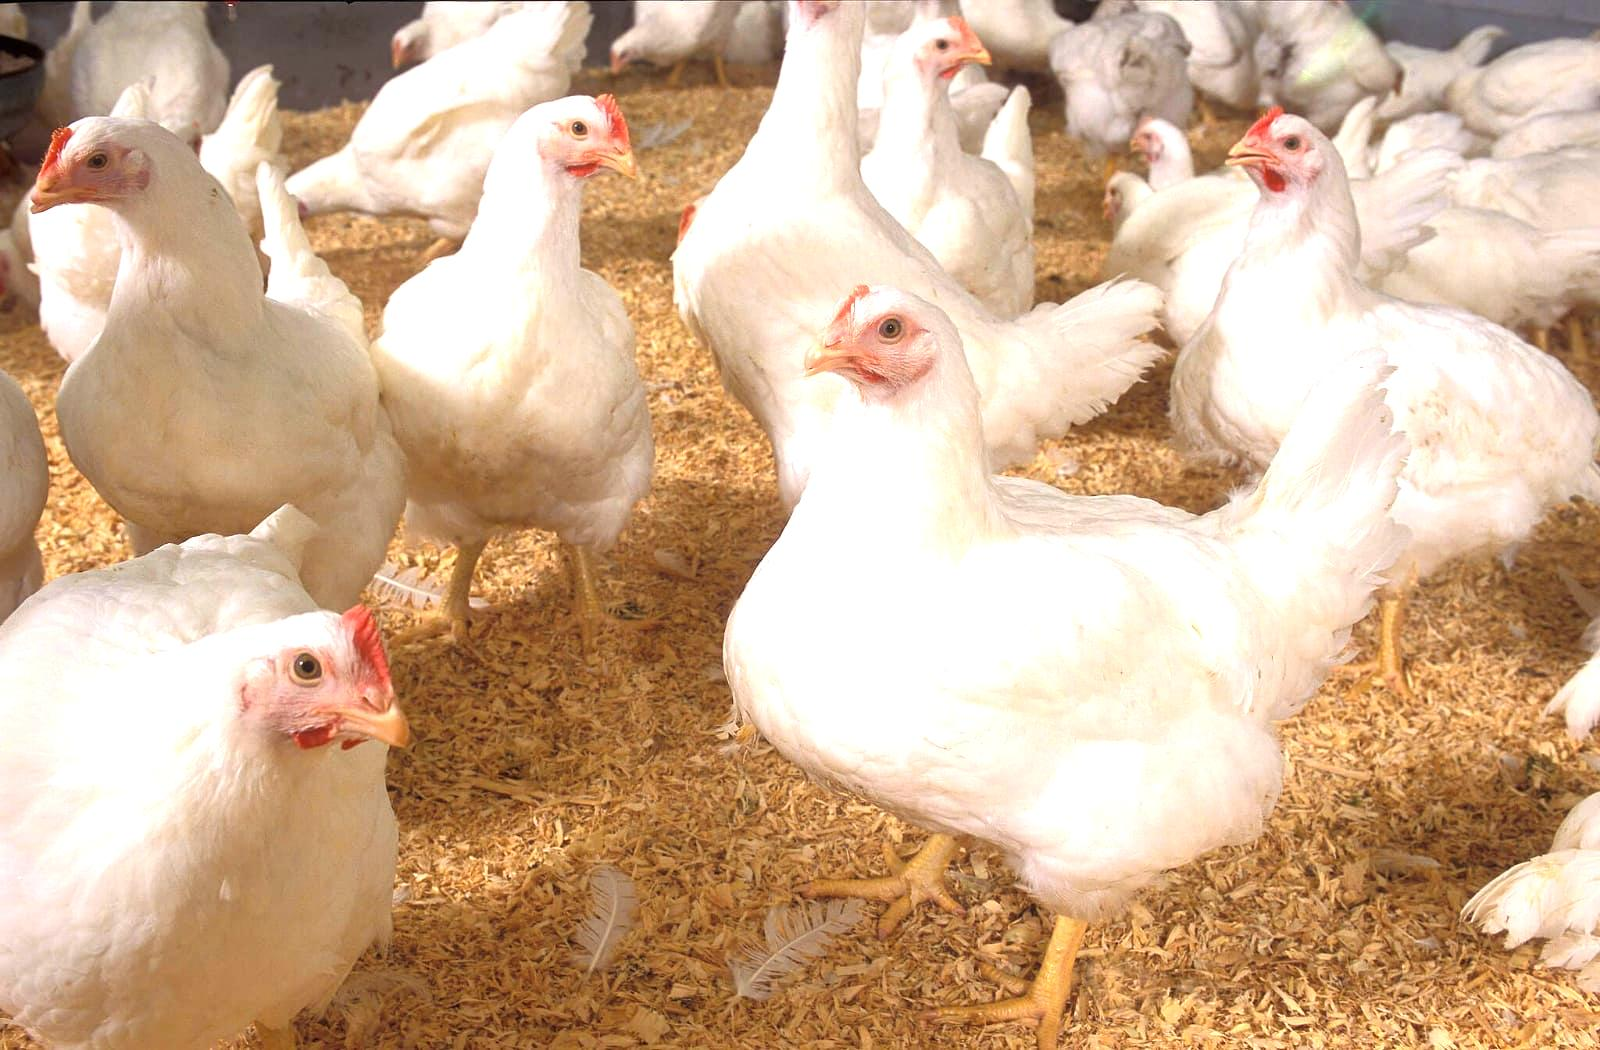Healthy: (709, 275, 1423, 1021), (14, 516, 439, 1039), (22, 111, 413, 588), (381, 77, 673, 649)
